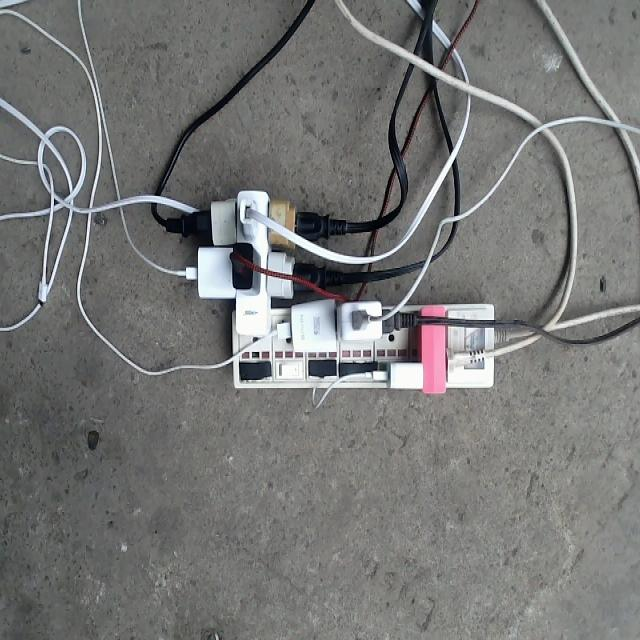-: (161, 188, 496, 392)
